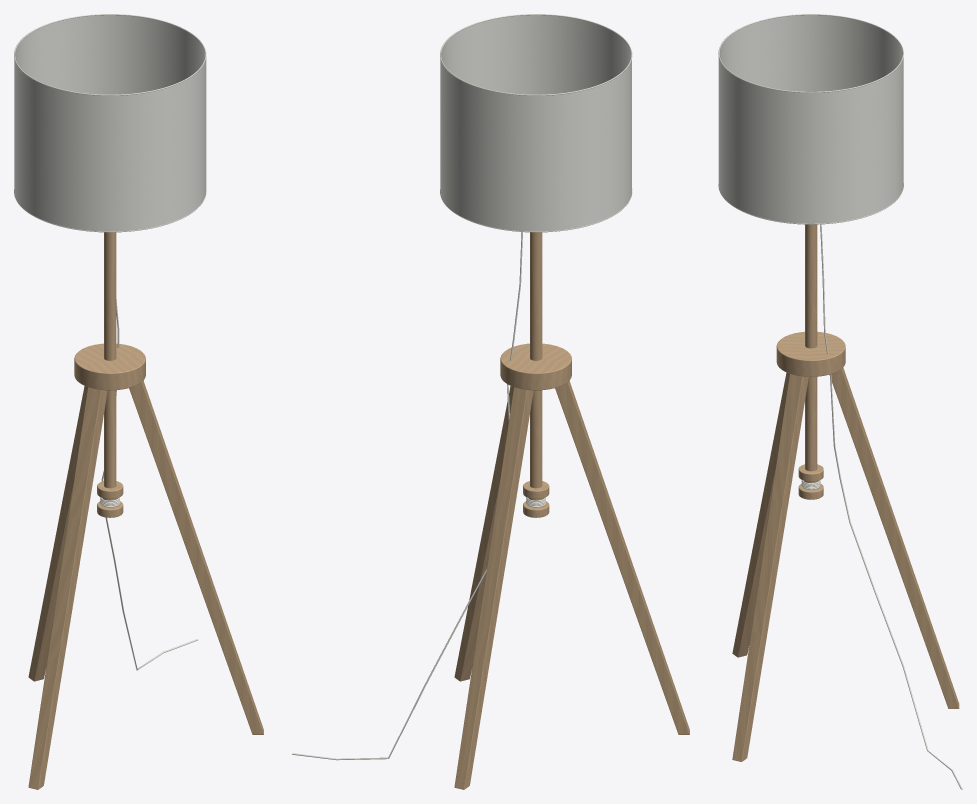
File: floor-lamp.glb
3 renders of one model, left to right at view 1: azimuth 30°, elevation 25°; view 2: azimuth 150°, elevation 25°; view 3: azimuth 270°, elevation 25°, orthographic. The views are drawn at different scales.
Parts seen in each view (by area): view 1: White textile drum shade, Flat tapered ash tripod leg.001, Flat tapered ash tripod leg.002, Flat tapered ash tripod leg, Sliding solid ash height stem, Solid round ash tripod hub, White bound shade rim.001, White hanging power cable; view 2: White textile drum shade, Flat tapered ash tripod leg, Flat tapered ash tripod leg.001, Flat tapered ash tripod leg.002, Sliding solid ash height stem, Solid round ash tripod hub, White hanging power cable, White bound shade rim.001; view 3: White textile drum shade, Flat tapered ash tripod leg.002, Flat tapered ash tripod leg, Flat tapered ash tripod leg.001, Sliding solid ash height stem, Solid round ash tripod hub, White hanging power cable, White bound shade rim.001.
Part boxes in pixels (bbox=[...]): White textile drum shade: bbox=[14, 15, 206, 231]; Flat tapered ash tripod leg.001: bbox=[28, 387, 107, 789]; Flat tapered ash tripod leg.002: bbox=[129, 381, 263, 734]; Flat tapered ash tripod leg: bbox=[28, 386, 87, 681]; Sliding solid ash height stem: bbox=[104, 232, 116, 488]; Solid round ash tripod hub: bbox=[74, 343, 145, 390]; White bound shade rim.001: bbox=[14, 14, 206, 95]; White hanging power cable: bbox=[101, 299, 198, 670]; White textile drum shade: bbox=[440, 15, 631, 231]; Flat tapered ash tripod leg: bbox=[454, 387, 533, 789]; Flat tapered ash tripod leg.001: bbox=[555, 381, 689, 734]; Flat tapered ash tripod leg.002: bbox=[454, 386, 513, 681]; Sliding solid ash height stem: bbox=[530, 232, 542, 488]; Solid round ash tripod hub: bbox=[500, 343, 571, 390]; White hanging power cable: bbox=[292, 232, 522, 760]; White bound shade rim.001: bbox=[440, 14, 632, 95]; White textile drum shade: bbox=[718, 15, 903, 223]; Flat tapered ash tripod leg.002: bbox=[732, 374, 808, 761]; Flat tapered ash tripod leg: bbox=[829, 368, 959, 708]; Flat tapered ash tripod leg.001: bbox=[732, 372, 789, 657]; Sliding solid ash height stem: bbox=[805, 224, 817, 471]; Solid round ash tripod hub: bbox=[776, 331, 845, 376]; White hanging power cable: bbox=[820, 224, 962, 789]; White bound shade rim.001: bbox=[718, 14, 903, 92].
Bounding box in the file's own units: 0.65 × 1.5 × 0.5024.
Materials: 4 (2 with a texture image).
